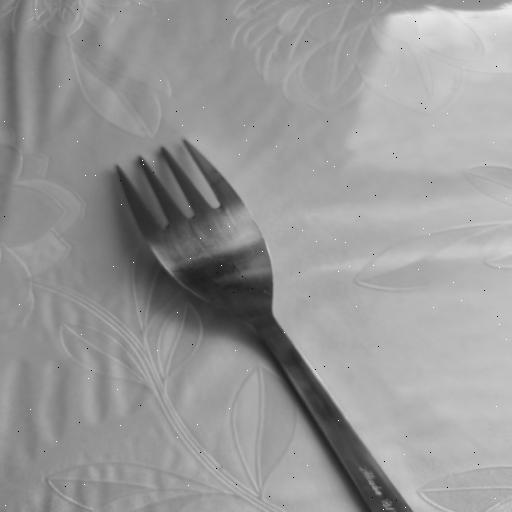fork: (104, 133, 438, 511)
